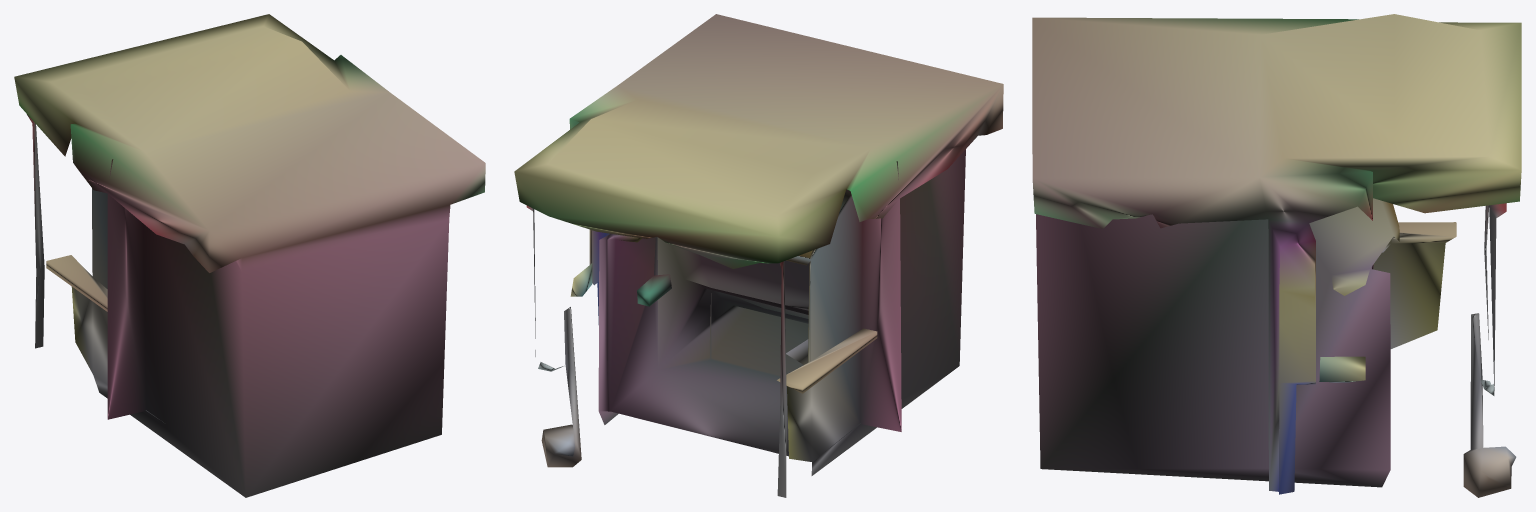
The model's file is kiosk_far.glb.
The picture shows the model from 3 angles, left to right: view 1: azimuth 30°, elevation 25°; view 2: azimuth 150°, elevation 25°; view 3: azimuth 270°, elevation 25°; orthographic projection. The views are drawn at different scales.
Visible parts, largest first — view 1: kiosk; view 2: kiosk; view 3: kiosk.
Boxes of the visible parts, x1,y1,x2,y2 form: kiosk: (14,14,485,497); kiosk: (514,14,1003,497); kiosk: (1032,14,1521,497).
Bounding box in the file's own units: 0.9993 × 1 × 1.25.
